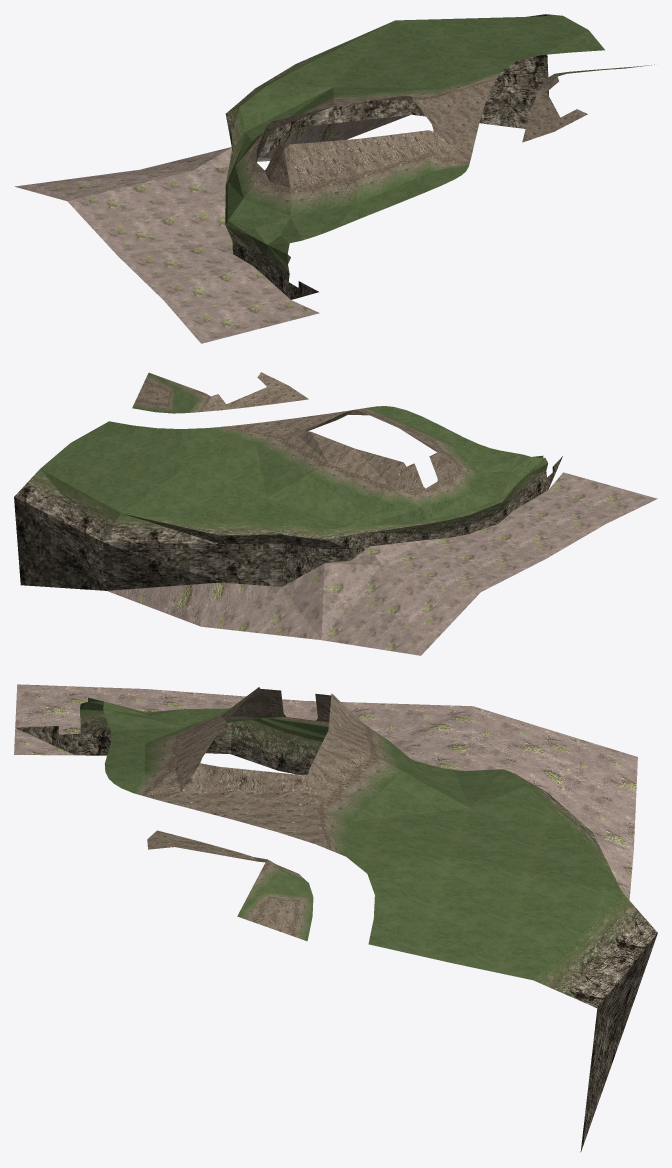
File: ce_groundpalo04.obj
3 renders of one model, top to bottom at view 1: azimuth 30°, elevation 25°; view 2: azimuth 150°, elevation 25°; view 3: azimuth 270°, elevation 25°, orthographic. The views are drawn at different scales.
Parts seen in each view (by area): view 1: CE_groundPALO04; view 2: CE_groundPALO04; view 3: CE_groundPALO04.
Boxes of the visible parts, box(x1,y1,x2,y2) form: CE_groundPALO04: box(15, 14, 654, 343); CE_groundPALO04: box(14, 372, 657, 655); CE_groundPALO04: box(14, 684, 657, 1152).
Bounding box in the file's own units: 278 × 81.26 × 210.
Materials: 6 (6 with a texture image).
